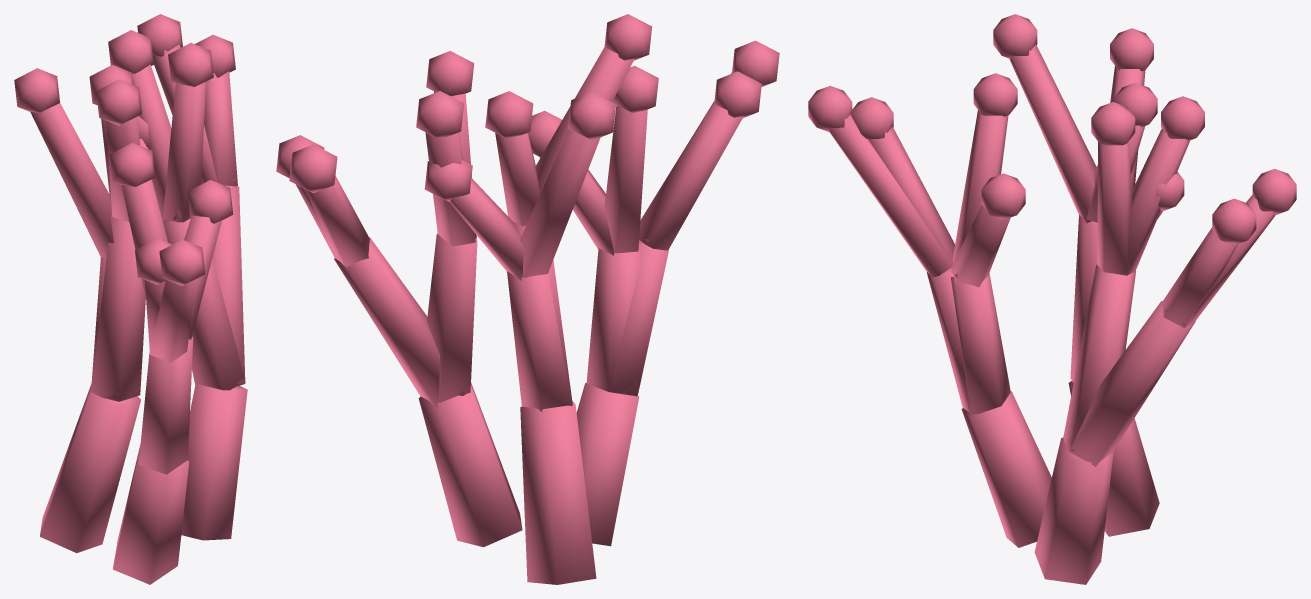
The model's file is Coral_Pink.fbx.
3 renders of one model, left to right at view 1: azimuth 30°, elevation 25°; view 2: azimuth 150°, elevation 25°; view 3: azimuth 270°, elevation 25°, orthographic. The views are drawn at different scales.
Parts seen in each view (by area): view 1: Coral_Pink.001; view 2: Coral_Pink.001; view 3: Coral_Pink.001.
Boxes of the visible parts, bbox=[...] form: Coral_Pink.001: bbox=[14, 14, 247, 584]; Coral_Pink.001: bbox=[276, 14, 779, 584]; Coral_Pink.001: bbox=[808, 14, 1296, 584].
Size of the model in its own units: 0.4516 by 0.7965 by 0.6905.
